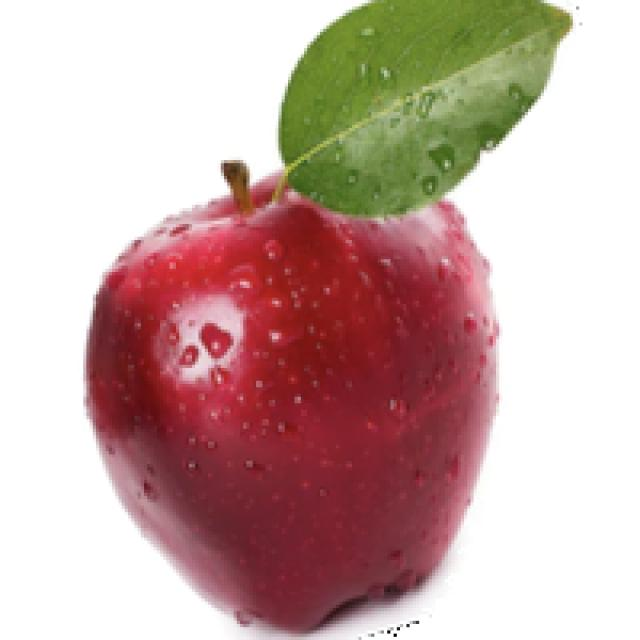apple: (77, 0, 582, 637)
